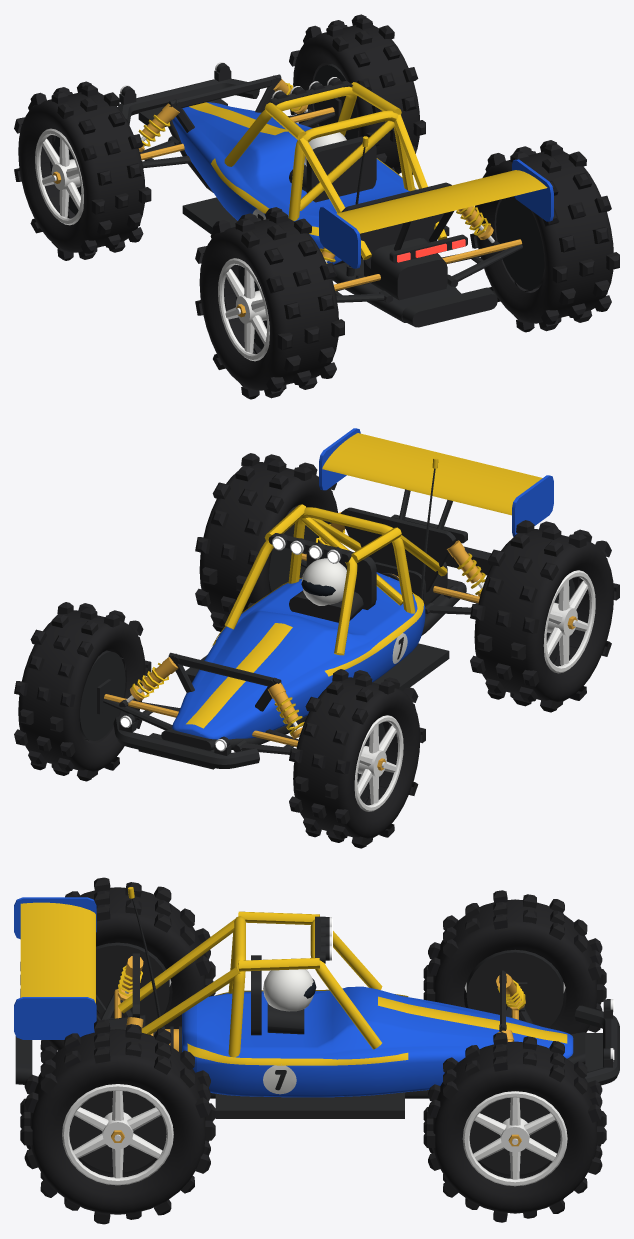
The model's file is sparky.glb.
3 views of the same model, one above another, from view 1: azimuth 30°, elevation 25°; view 2: azimuth 150°, elevation 25°; view 3: azimuth 270°, elevation 25° (orthographic). The views are drawn at different scales.
Parts seen in each view (by area): view 1: body, wheel_rl, wheel_fl, wheel_rr, wheel_fr; view 2: body, wheel_rl, wheel_fl, wheel_fr, wheel_rr; view 3: body, wheel_rr, wheel_fr, wheel_fl, wheel_rl.
Part boxes in pixels (x1,y1,x2,y2): body: (118,62,553,327); wheel_rl: (195,207,344,399); wheel_fl: (14,81,151,260); wheel_rr: (470,140,619,332); wheel_fr: (289,14,425,174); body: (97,428,553,769); wheel_rl: (470,520,619,712); wheel_fl: (289,669,425,848); wheel_fr: (14,602,151,781); wheel_rr: (195,453,344,631); body: (14,897,619,1118); wheel_rr: (20,1019,215,1224); wheel_fr: (423,1032,606,1222); wheel_fl: (423,890,606,1034); wheel_rl: (20,877,215,1050).
Size of the model in its own units: 1.36 by 0.8412 by 1.98.
